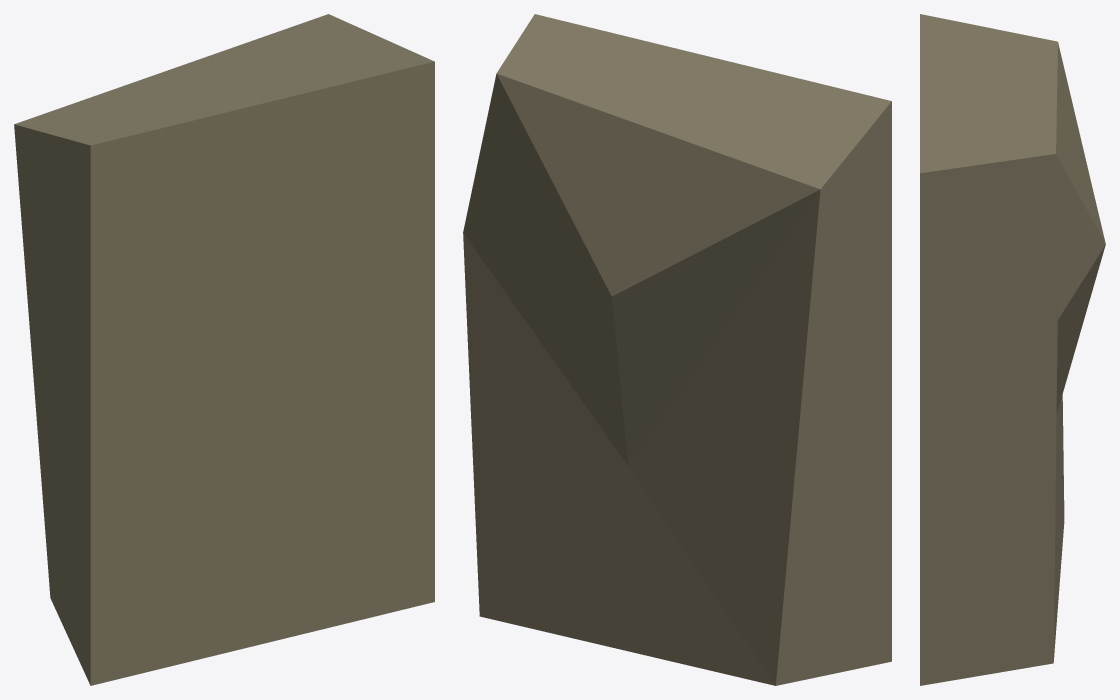
File: CaveSideWall.fbx
3 renders of one model, left to right at view 1: azimuth 30°, elevation 25°; view 2: azimuth 150°, elevation 25°; view 3: azimuth 270°, elevation 25°, orthographic. The views are drawn at different scales.
Visible parts, largest first — view 1: CaveSideWall; view 2: CaveSideWall; view 3: CaveSideWall.
Boxes of the visible parts, <box> form: CaveSideWall: <box>14,14,434,685</box>; CaveSideWall: <box>463,14,891,685</box>; CaveSideWall: <box>920,14,1105,685</box>.
Size of the model in its own units: 202 by 302 by 98.54.
